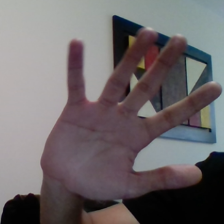left: (25, 8, 224, 201)
